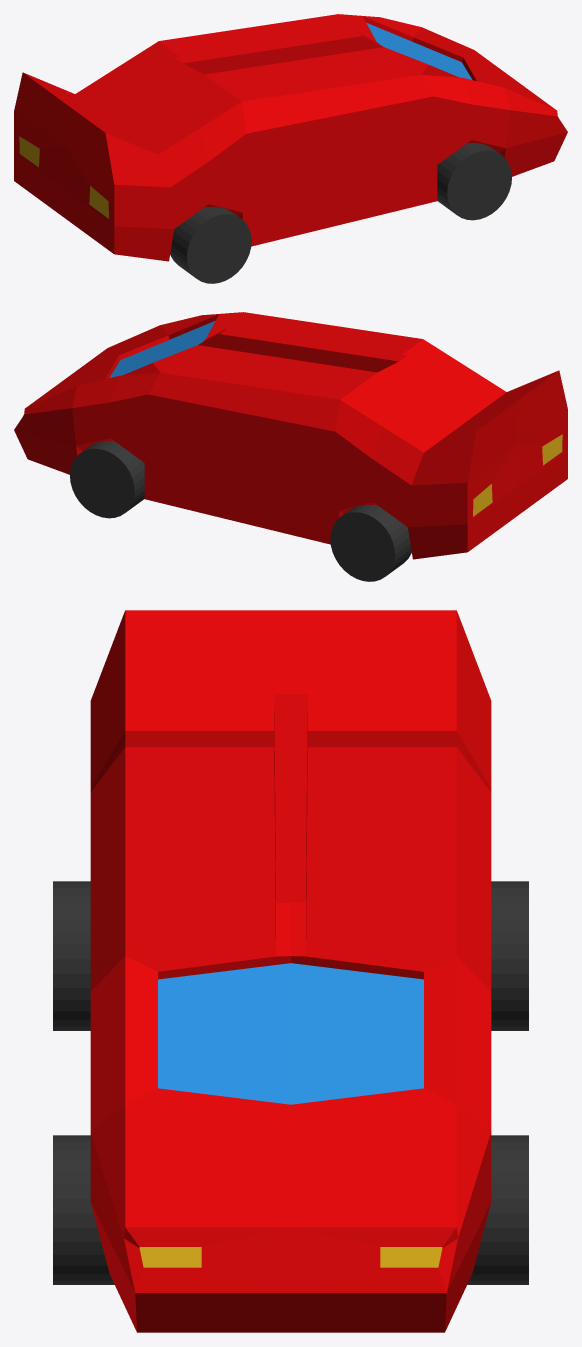
File: RaceCar1.fbx
3 renders of one model, top to bottom at view 1: azimuth 30°, elevation 25°; view 2: azimuth 150°, elevation 25°; view 3: azimuth 270°, elevation 25°, orthographic. The views are drawn at different scales.
Parts seen in each view (by area): view 1: Body, Wheelfl, Wheelbl; view 2: Body, Wheelfr, Wheelbr; view 3: Body, Wheelbl, Wheelbr, Wheelfl, Wheelfr.
Boxes of the visible parts, x1=… form: Body: x1=14, y1=14, x2=567, y2=261; Wheelfl: x1=170, y1=207, x2=251, y2=283; Wheelbl: x1=437, y1=143, x2=511, y2=220; Body: x1=14, y1=312, x2=567, y2=559; Wheelfr: x1=330, y1=505, x2=411, y2=581; Wheelbr: x1=70, y1=441, x2=144, y2=518; Body: x1=90, y1=610, x2=491, y2=1332; Wheelbl: x1=53, y1=1135, x2=114, y2=1284; Wheelbr: x1=467, y1=1135, x2=528, y2=1284; Wheelfl: x1=53, y1=881, x2=90, y2=1030; Wheelfr: x1=491, y1=881, x2=528, y2=1030.
Size of the model in its own units: 536 by 192 by 237.
